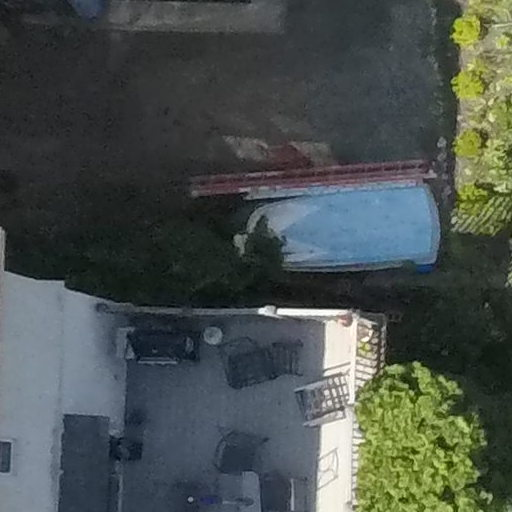barbece: (114, 321, 202, 373)
boat: (227, 178, 450, 273)
chair: (216, 335, 284, 401), (199, 422, 270, 476)
container: (352, 315, 379, 348)
poch: (98, 277, 427, 512)
toy: (232, 186, 446, 273)
